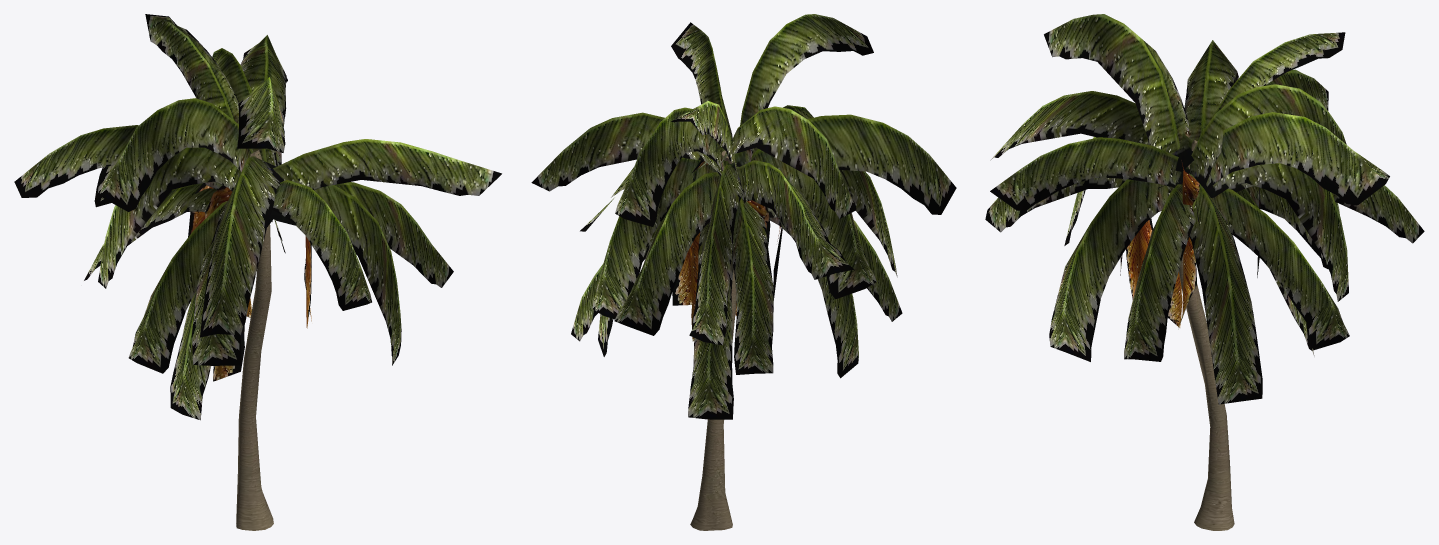
Rendered from SM_pal_b00_coco_palm_medium_dc4e26.glb.
The picture shows the model from 3 angles, left to right: view 1: azimuth 30°, elevation 25°; view 2: azimuth 150°, elevation 25°; view 3: azimuth 270°, elevation 25°; orthographic projection. The views are drawn at different scales.
Size of the model in its own units: 4.3 by 5.73 by 4.66.
Materials: 2 (2 with a texture image).
